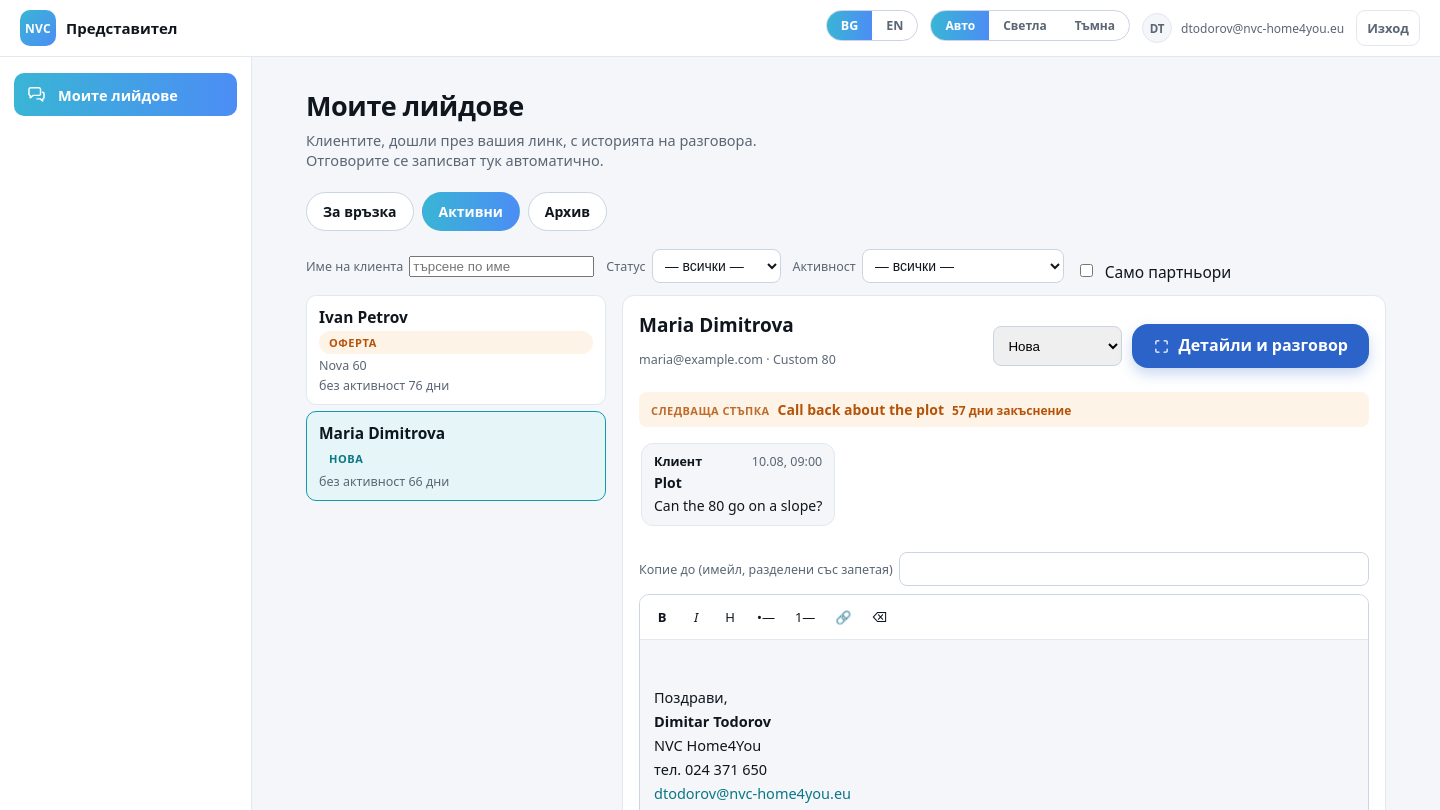
Test: RepLeadsPage › a ?lead= link opens that lead, not the first row
Expected: the heading "Maria Dimitrova" is shown, [639, 312, 794, 338]
Click the button "Детайли и разговор" at point(1251, 346), box [1132, 324, 1369, 368]
(page scrolled)
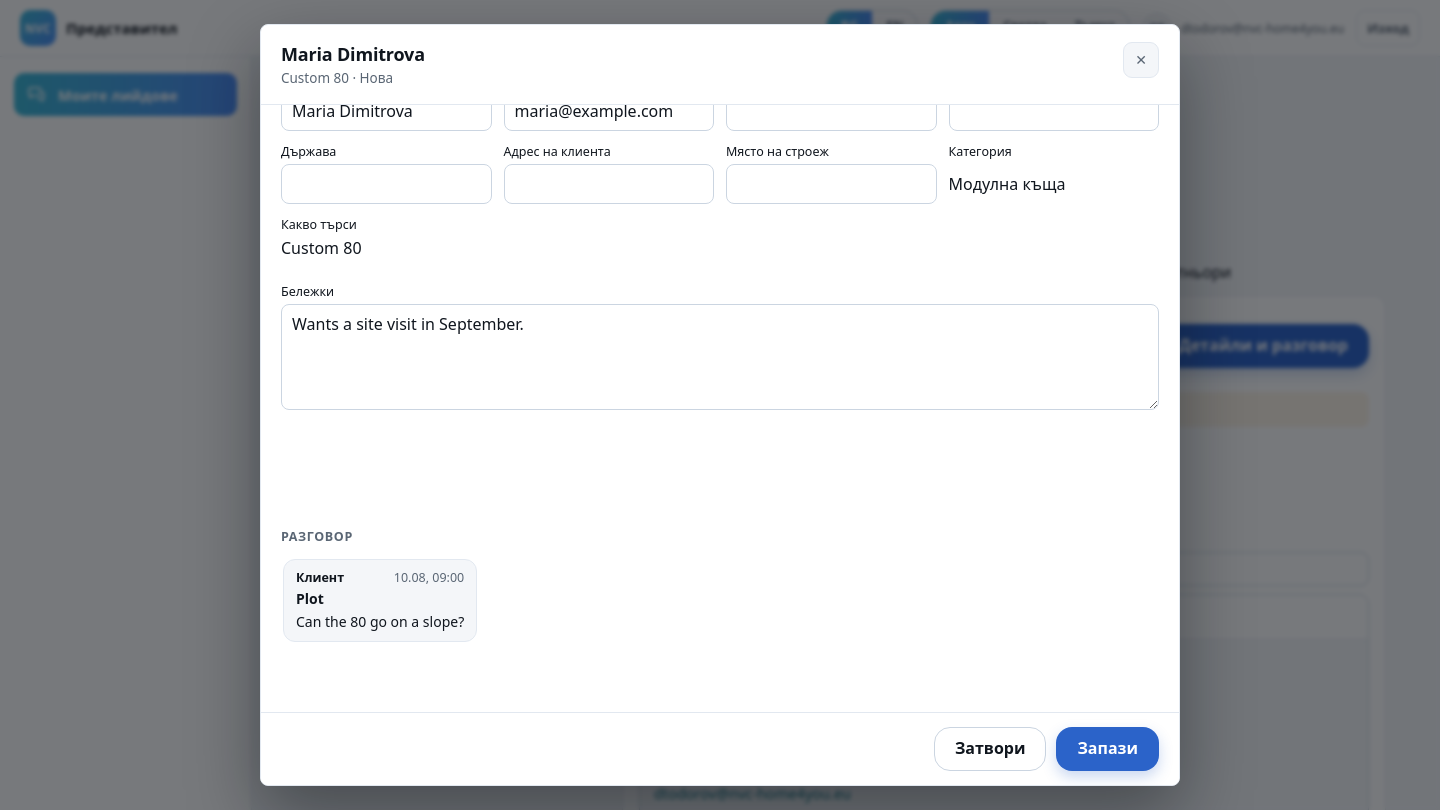
Expected: the text box showing "Wants a site visit in September." is shown, [281, 304, 1159, 410]
Expected: the text "Can the 80 go on a slope?" is shown, [296, 611, 464, 632]
